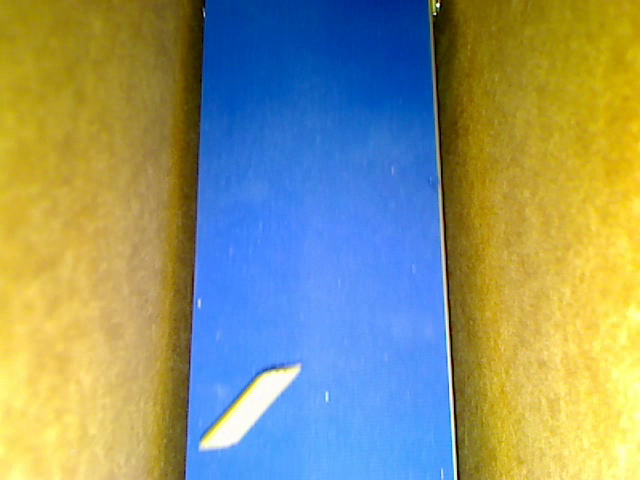penne: (197, 363, 300, 450)
